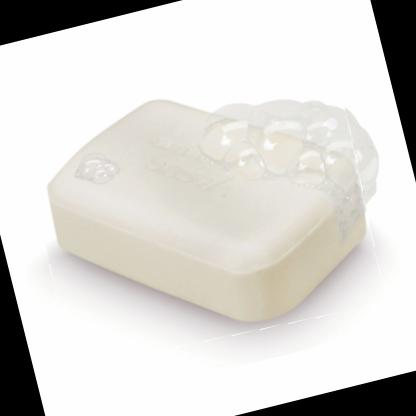soap: (15, 51, 392, 376)
